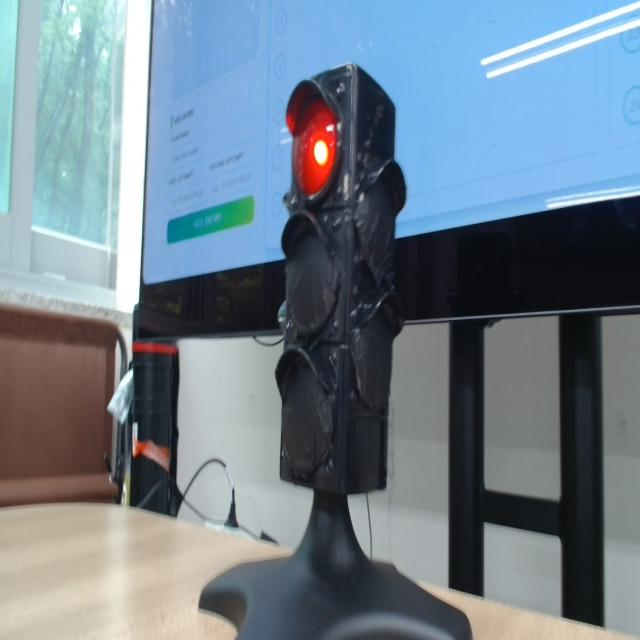red_light: (288, 96, 337, 197)
